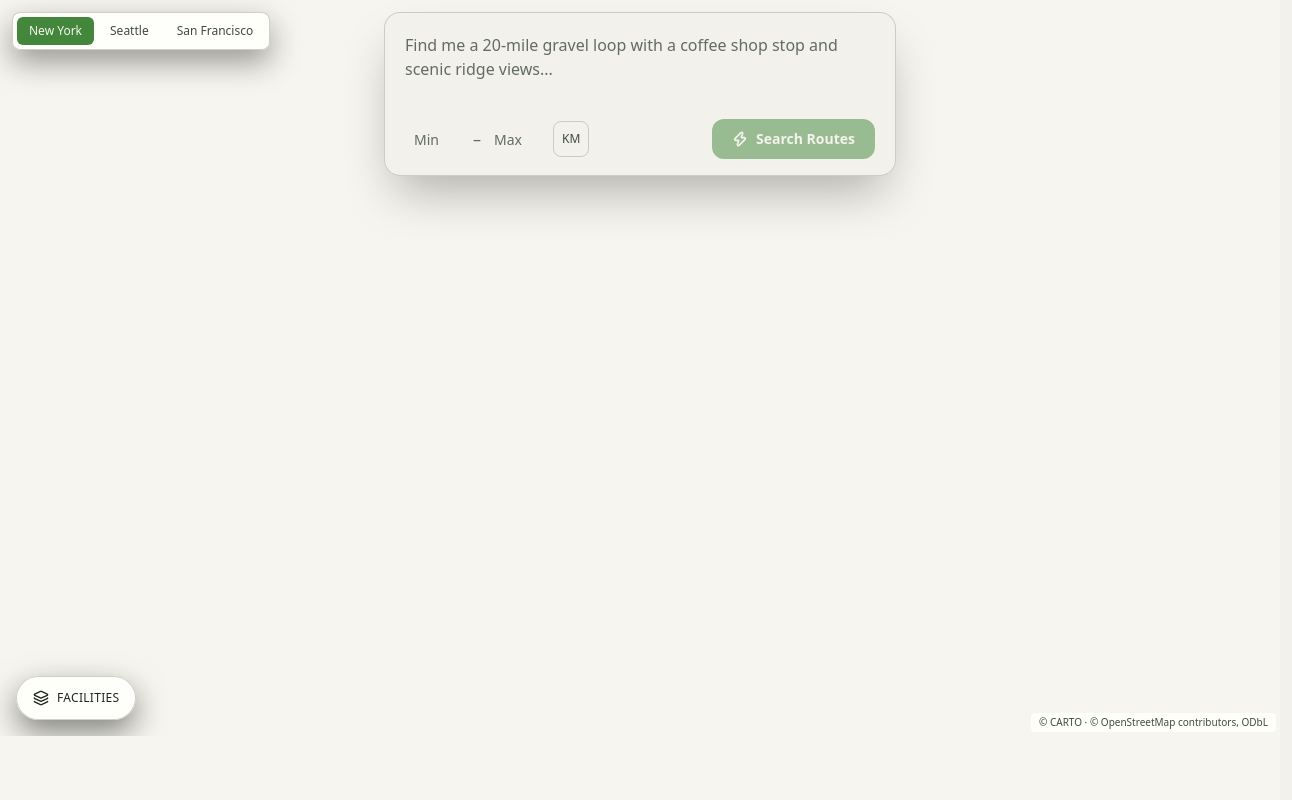
MapExplorer — mobile layout › frames results into the bottom band (reserves dock space, not the side panels)
Replace the text in the text box with "two routes" at [640, 65], box [389,17,891,113]
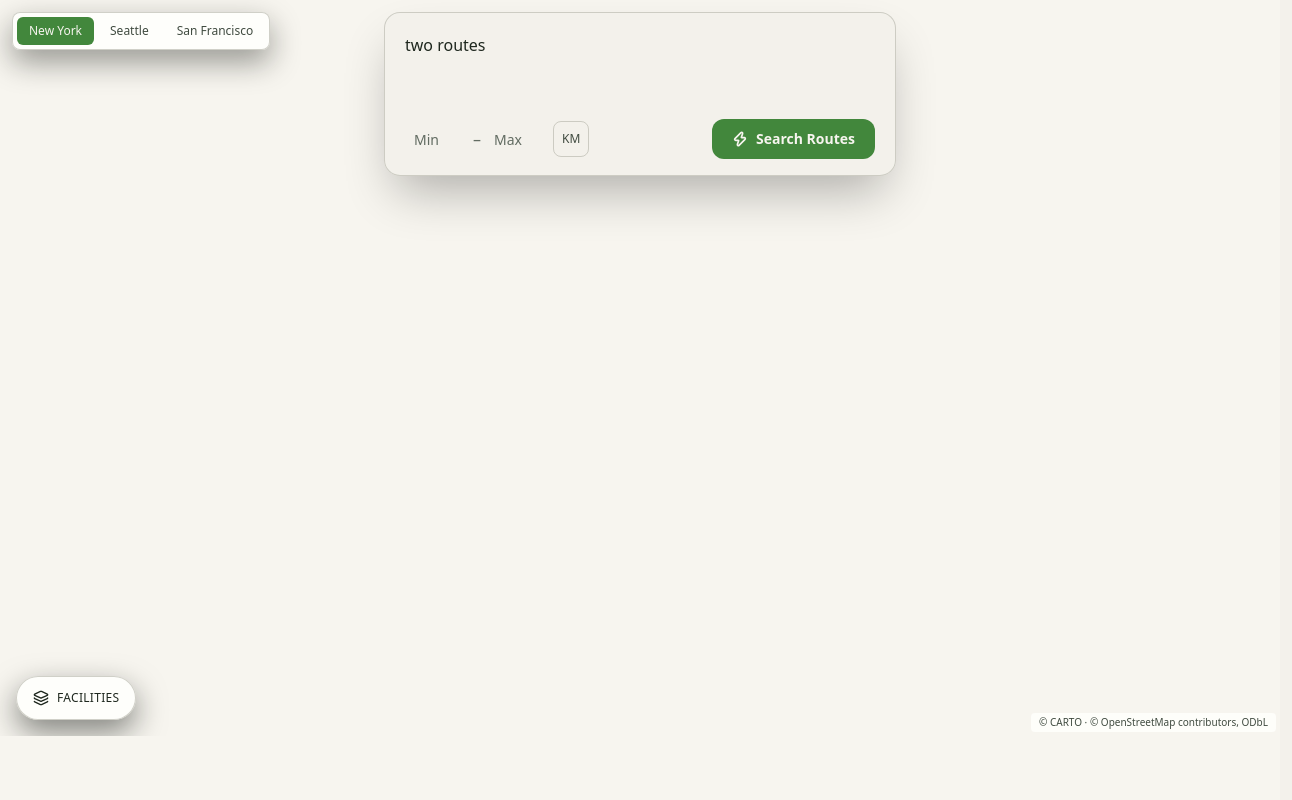
Click the button "Search Routes" at [794, 139], box [712,119,875,159]
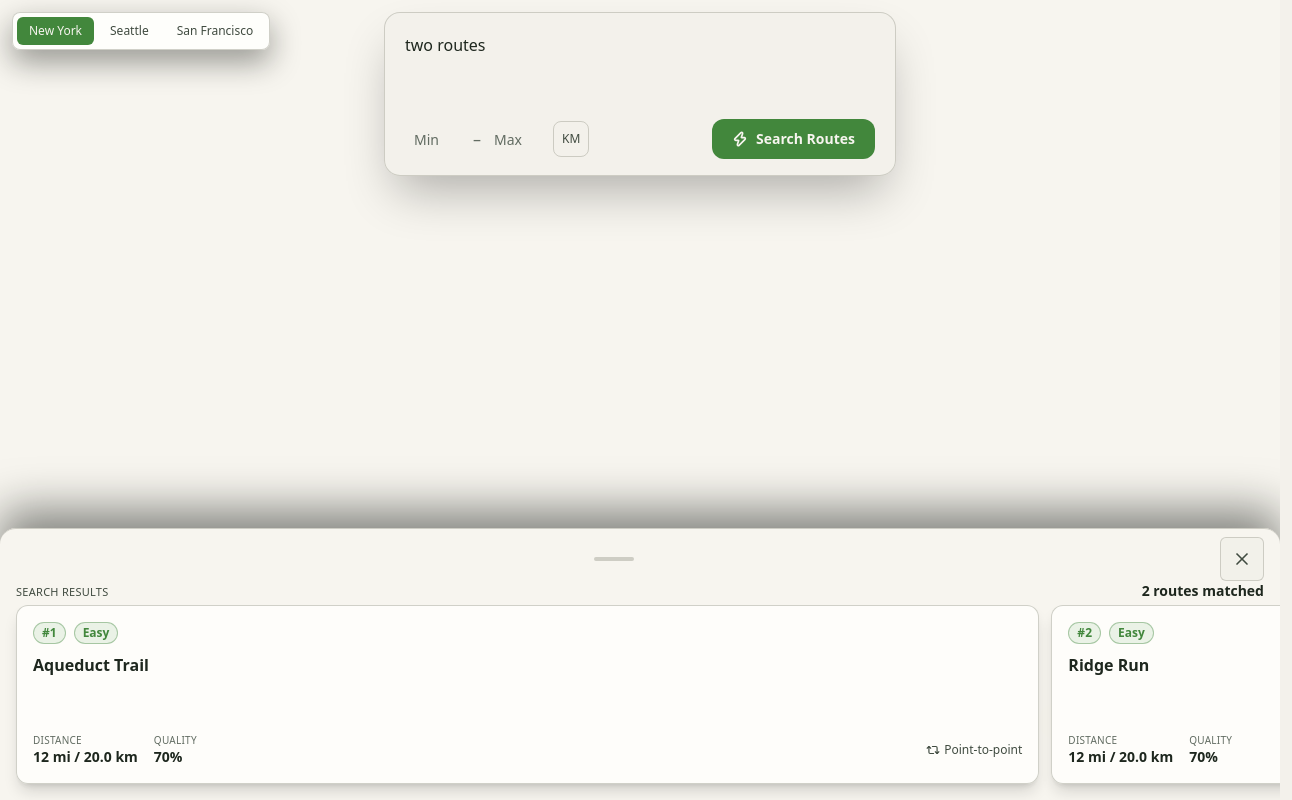
Check: the button with aria-label "focus aqueduct trail" is shown, box [16,605,1039,784]
